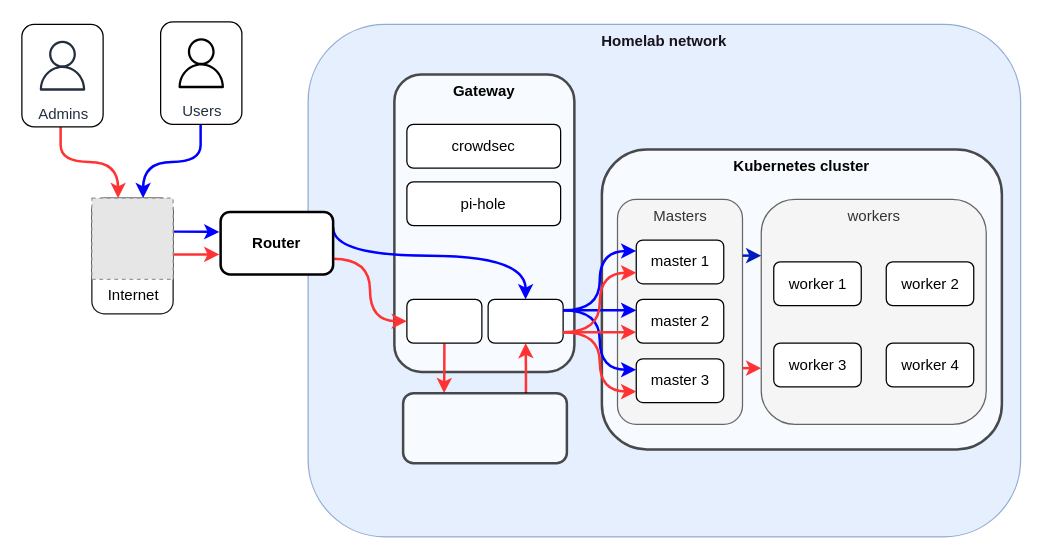
Some shapes in this 1043 by 559 pixel diagram are drawn without their labels. Grey dashed boxes stand in for pictures. Here are the shapes that lost their labels. From the top down, the centre of each, then its label:
At (444,320): "wireguard".
At (525,320): "haproxy".
At (484,427): "Bastion".
